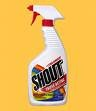grozi_86: (28, 4, 68, 107)
